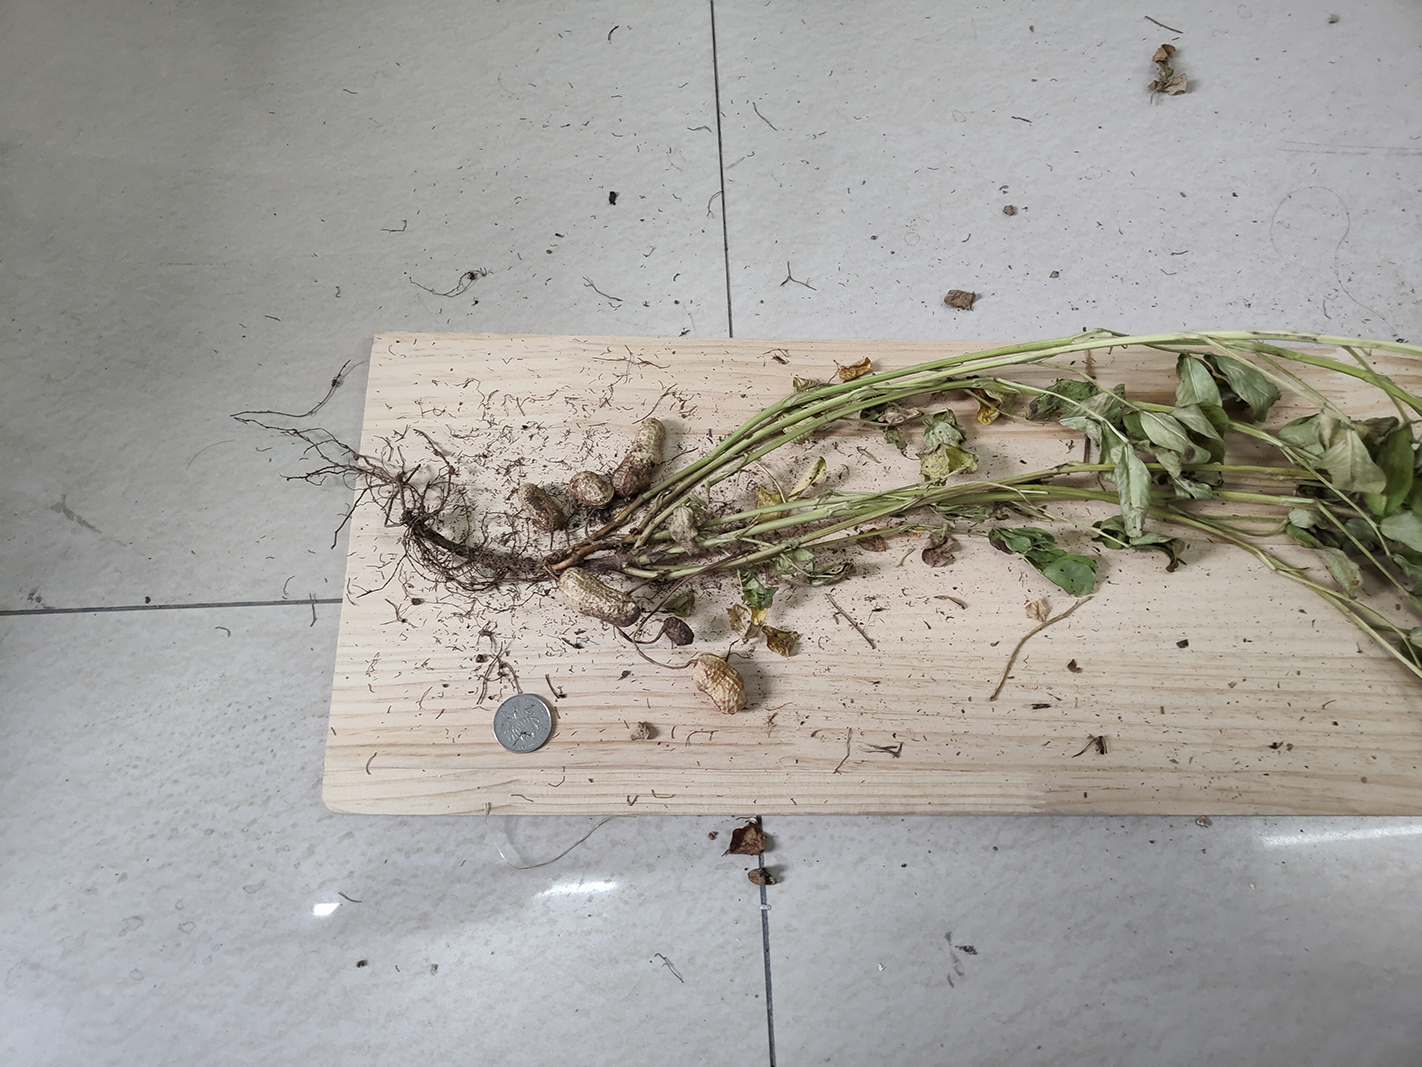h: (560, 565, 640, 627), (613, 418, 664, 498), (691, 655, 747, 715), (570, 472, 611, 507)
l: (517, 484, 563, 531), (662, 618, 694, 646)
